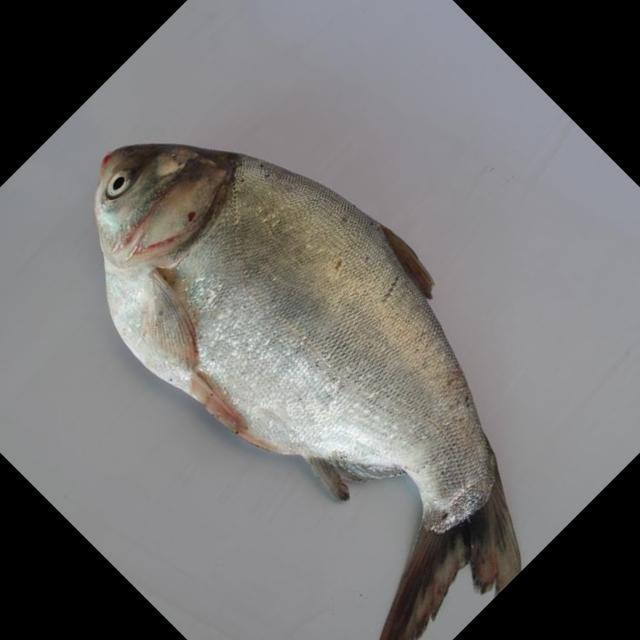SilverCarp: (83, 130, 560, 614)
